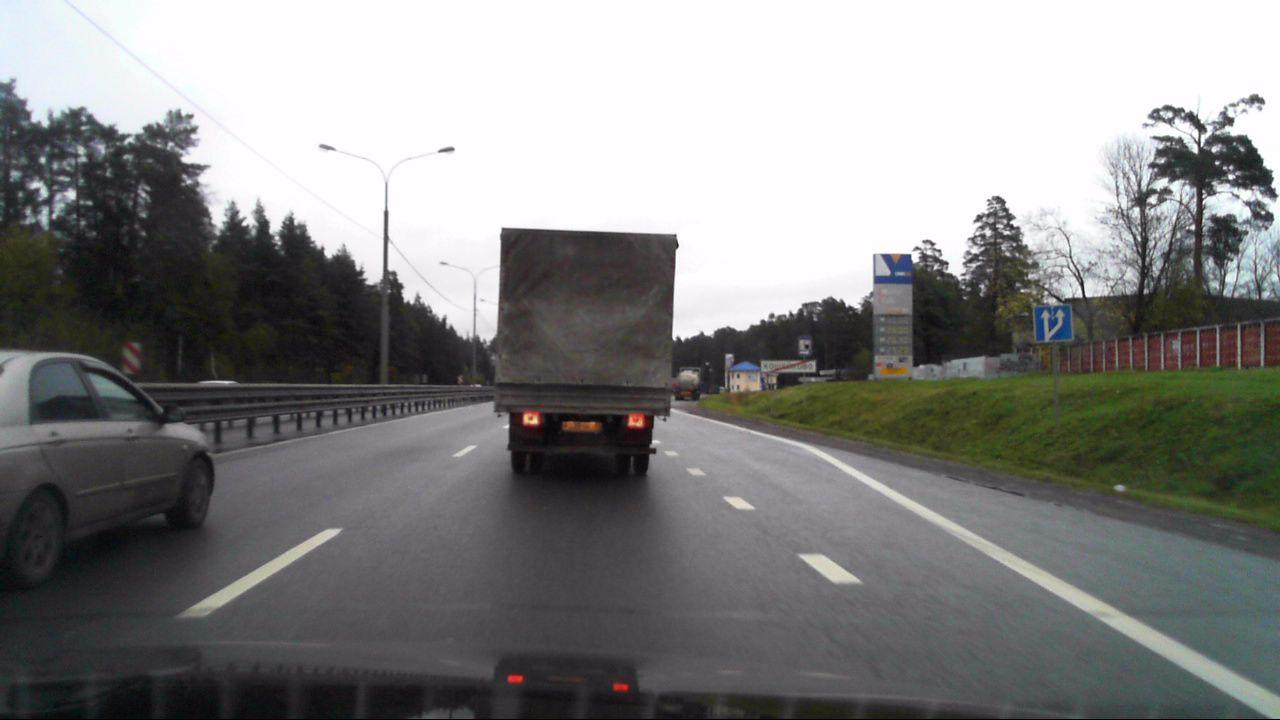5_15_3: (1033, 303, 1075, 343)
7_3: (797, 335, 813, 355)
